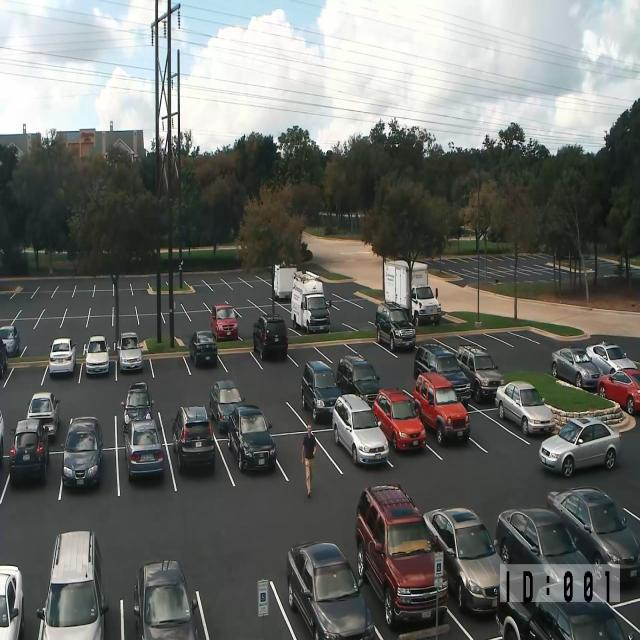car: (355, 483, 448, 629), (494, 506, 596, 605), (546, 486, 640, 583), (495, 578, 640, 640), (286, 540, 375, 640), (423, 507, 502, 615), (36, 530, 109, 639), (133, 559, 209, 639), (539, 415, 621, 477), (528, 599, 638, 640), (413, 371, 471, 446), (332, 393, 389, 466), (494, 381, 556, 436), (373, 388, 426, 452), (227, 404, 276, 472), (60, 415, 103, 489), (172, 405, 216, 473), (456, 344, 504, 402), (9, 418, 49, 485), (300, 360, 342, 423), (123, 417, 164, 480), (336, 354, 381, 408), (429, 351, 471, 407), (550, 346, 603, 390), (375, 301, 416, 351), (597, 368, 640, 414), (209, 379, 245, 433), (586, 340, 637, 376), (0, 564, 24, 639), (252, 314, 288, 361), (413, 342, 456, 381), (122, 381, 154, 433), (26, 391, 60, 439), (411, 283, 441, 327), (116, 331, 144, 373), (189, 330, 218, 368), (210, 302, 238, 341), (83, 335, 110, 375), (49, 337, 76, 375), (0, 324, 20, 356), (0, 338, 8, 378), (0, 408, 4, 467)
